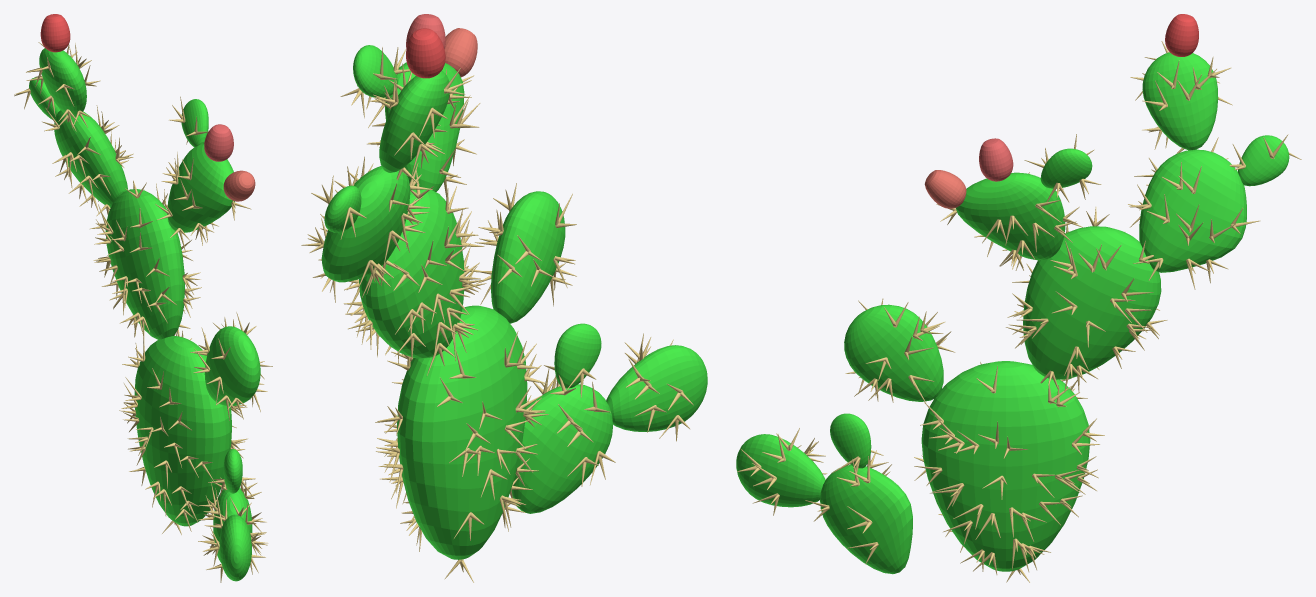
The model's file is Nopal.fbx.
The picture shows the model from 3 angles, left to right: view 1: azimuth 30°, elevation 25°; view 2: azimuth 150°, elevation 25°; view 3: azimuth 270°, elevation 25°; orthographic projection. The views are drawn at different scales.
Parts seen in each view (by area): view 1: nopal, Tuna2, Tuna, Tuna3; view 2: nopal, Tuna2, Tuna3, Tuna; view 3: nopal, Tuna3, Tuna, Tuna2.
Boxes of the visible parts, bbox=[...] form: nopal: bbox=[29, 48, 260, 581]; Tuna2: bbox=[40, 14, 70, 52]; Tuna: bbox=[204, 124, 233, 161]; Tuna3: bbox=[223, 170, 255, 201]; nopal: bbox=[321, 45, 707, 559]; Tuna2: bbox=[406, 28, 445, 78]; Tuna3: bbox=[444, 28, 477, 77]; Tuna: bbox=[406, 14, 445, 48]; nopal: bbox=[736, 52, 1289, 574]; Tuna3: bbox=[924, 170, 966, 208]; Tuna: bbox=[979, 138, 1013, 181]; Tuna2: bbox=[1165, 14, 1198, 56].
Bounding box in the file's own units: 97.21 × 329 × 313.
